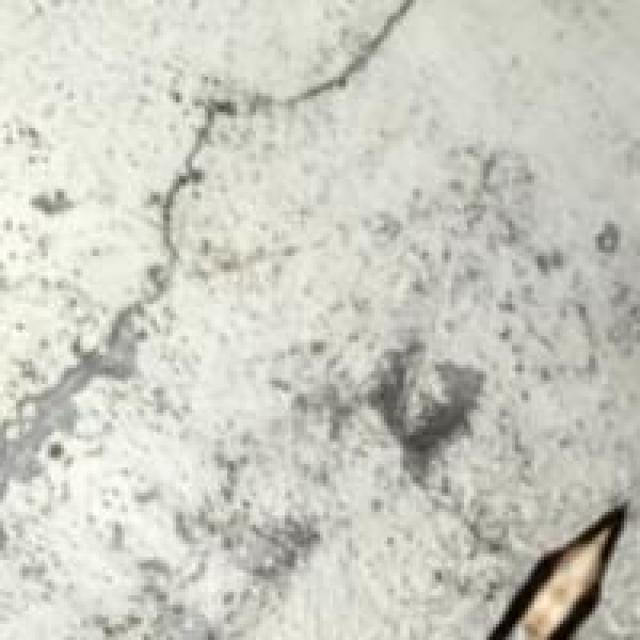Crack: (51, 7, 531, 230)
